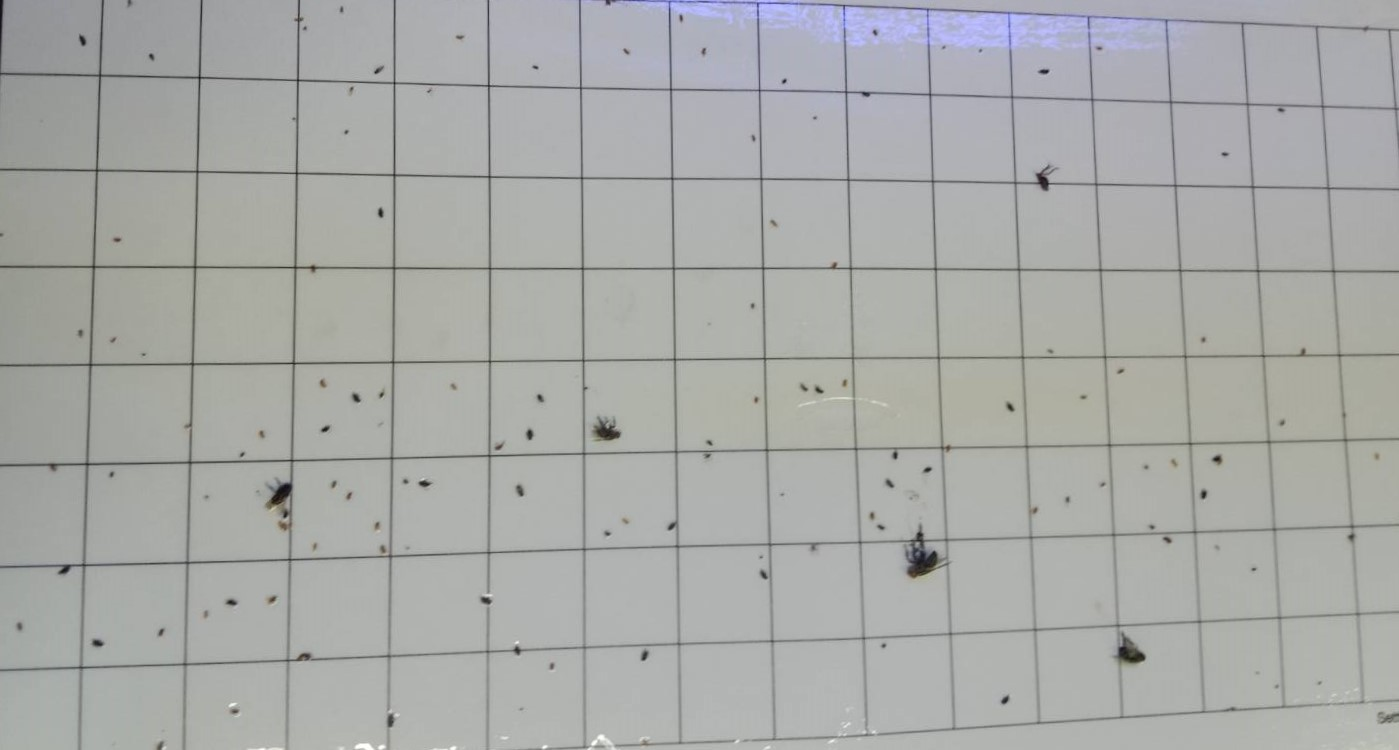fly: (905, 528, 949, 578), (590, 414, 623, 446), (1115, 634, 1146, 668), (264, 476, 294, 509), (1035, 163, 1060, 192)
test: (56, 563, 73, 578), (90, 637, 107, 652), (1212, 453, 1225, 470), (350, 390, 364, 405), (296, 651, 313, 663), (514, 482, 526, 499), (798, 380, 811, 395), (666, 519, 679, 533), (385, 714, 397, 729), (640, 648, 652, 663), (1005, 400, 1016, 416), (376, 204, 386, 221), (229, 705, 242, 718), (813, 384, 826, 397), (999, 694, 1011, 708), (1168, 457, 1180, 471), (78, 33, 90, 47), (344, 488, 355, 503), (478, 595, 494, 605), (885, 476, 897, 489), (418, 478, 432, 489), (1037, 65, 1051, 76), (526, 428, 535, 444), (758, 569, 770, 581), (146, 52, 158, 64), (154, 739, 167, 750), (257, 428, 268, 441), (318, 377, 329, 390), (495, 441, 506, 454), (829, 260, 840, 273), (372, 64, 383, 77), (512, 644, 522, 658), (868, 509, 878, 523), (156, 627, 167, 639), (14, 620, 25, 632), (47, 463, 59, 474), (372, 520, 384, 531), (379, 543, 390, 555), (922, 465, 933, 477), (1163, 535, 1174, 547), (1198, 488, 1209, 500), (1141, 462, 1153, 473), (1347, 531, 1358, 543), (861, 89, 872, 101), (622, 47, 633, 59), (225, 598, 238, 608), (201, 608, 211, 621), (329, 478, 339, 491), (449, 380, 459, 393), (875, 523, 888, 533), (320, 423, 331, 434), (281, 509, 292, 520), (310, 540, 321, 551), (112, 235, 123, 246), (602, 527, 613, 538), (705, 437, 716, 448), (768, 218, 779, 229), (181, 420, 193, 430), (890, 449, 900, 461), (1220, 148, 1232, 158), (1094, 44, 1106, 54), (700, 44, 708, 59), (307, 264, 320, 273), (76, 328, 85, 341), (268, 593, 278, 604), (1097, 480, 1108, 490), (1277, 418, 1288, 428), (1276, 105, 1287, 115), (871, 28, 882, 38), (808, 542, 820, 551), (1030, 505, 1039, 517), (780, 76, 789, 88), (121, 0, 133, 9), (293, 15, 305, 24), (376, 389, 386, 399), (1299, 346, 1309, 356), (400, 477, 411, 486), (536, 392, 545, 403), (944, 443, 953, 454), (1115, 367, 1126, 376), (455, 33, 467, 41), (548, 660, 555, 673), (704, 451, 713, 461), (621, 516, 630, 526), (1147, 522, 1157, 531), (1198, 335, 1208, 344), (1372, 451, 1381, 461), (347, 85, 357, 94), (239, 449, 247, 460), (1078, 393, 1089, 401), (1046, 346, 1055, 355), (1273, 682, 1282, 691), (749, 133, 758, 142), (677, 13, 686, 22), (110, 335, 118, 345), (880, 641, 888, 651), (841, 376, 849, 386), (1064, 495, 1072, 505), (1249, 565, 1259, 573), (342, 128, 351, 136), (757, 552, 766, 560), (748, 300, 756, 309), (940, 43, 948, 52), (1362, 25, 1370, 34), (337, 5, 346, 13), (109, 470, 117, 478), (202, 493, 210, 501), (811, 114, 819, 122), (977, 46, 985, 54), (141, 350, 148, 359), (581, 383, 588, 392), (753, 395, 760, 404), (1316, 679, 1323, 688), (531, 64, 540, 71), (779, 490, 786, 497), (301, 24, 308, 31), (426, 88, 433, 95), (290, 115, 298, 121)
